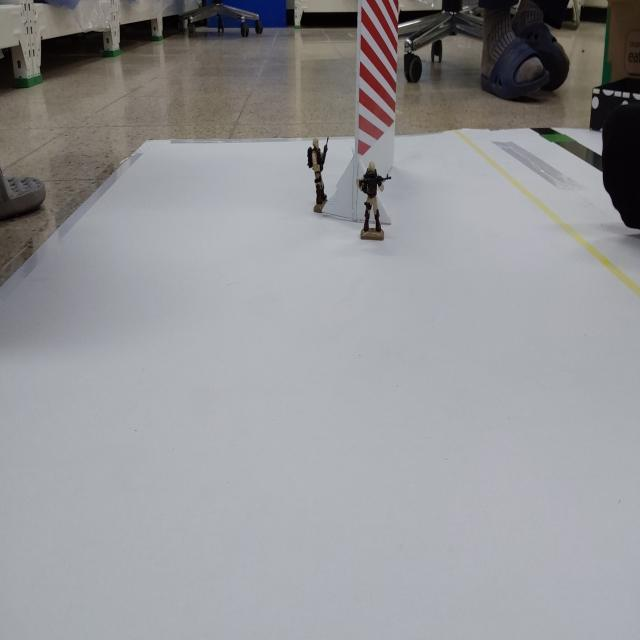ally: (356, 161, 391, 239), (307, 138, 329, 212)
